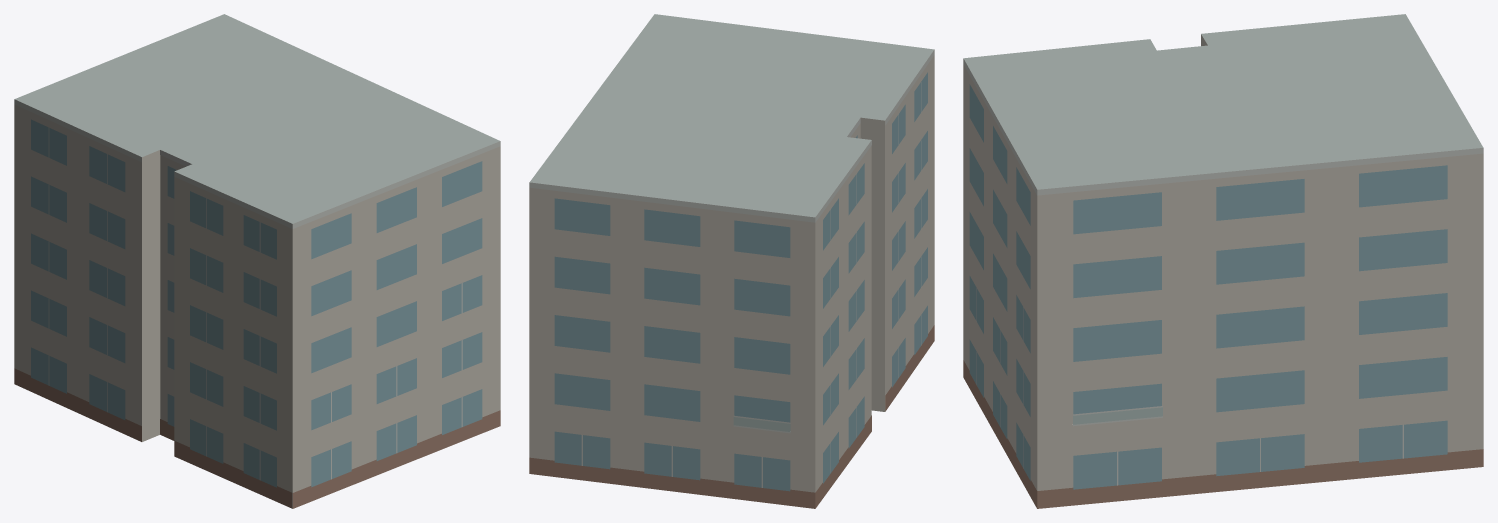
File: survey-upis-33045271.glb
3 renders of one model, left to right at view 1: azimuth 30°, elevation 25°; view 2: azimuth 150°, elevation 25°; view 3: azimuth 270°, elevation 25°, orthographic. The views are drawn at different scales.
Visible parts, largest first — view 1: survey-upis-33045271.tmp; view 2: survey-upis-33045271.tmp; view 3: survey-upis-33045271.tmp.
Boxes of the visible parts, <box> form: survey-upis-33045271.tmp: <box>14,14,500,508</box>; survey-upis-33045271.tmp: <box>529,14,934,508</box>; survey-upis-33045271.tmp: <box>963,14,1483,508</box>.
Size of the model in its own units: 15.96 by 13.5 by 19.95.
